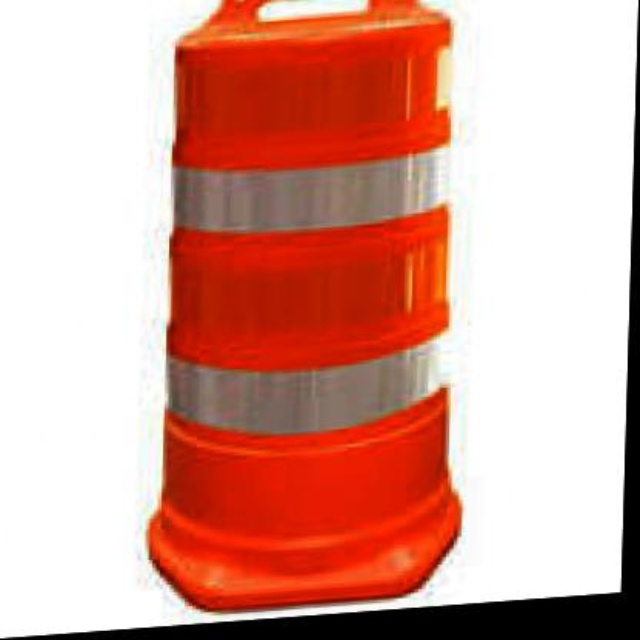obstacle: (143, 0, 519, 615)
